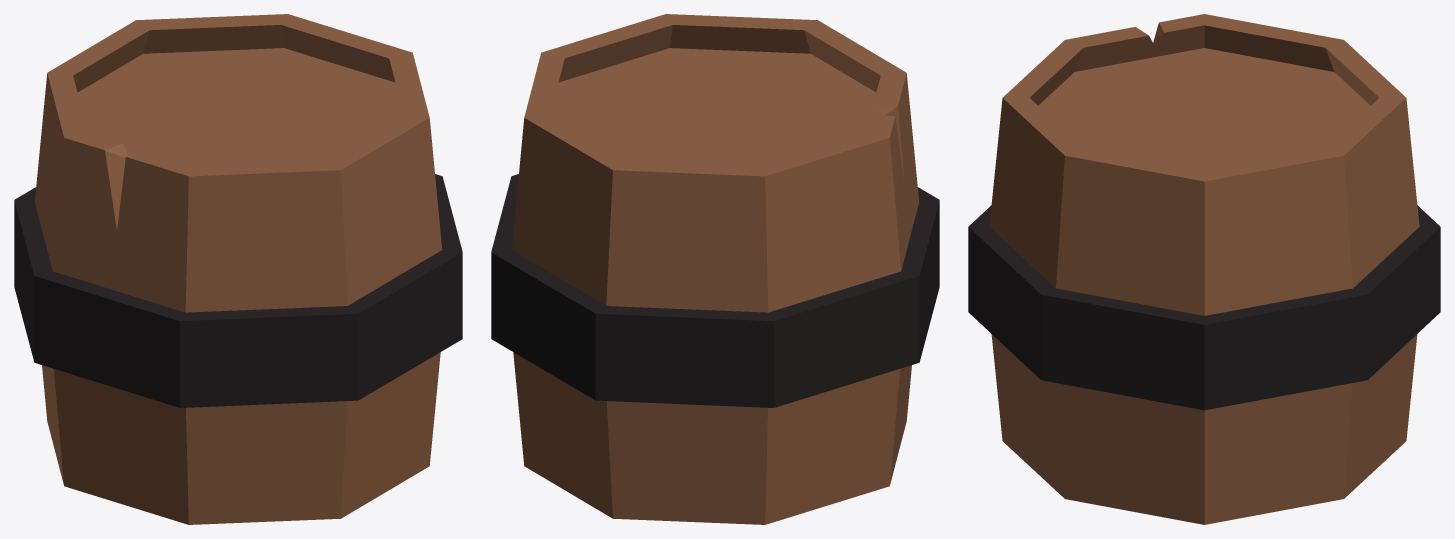
Rendered from barrel.fbx.
3 renders of one model, left to right at view 1: azimuth 30°, elevation 25°; view 2: azimuth 150°, elevation 25°; view 3: azimuth 270°, elevation 25°, orthographic.
Visible parts, largest first — view 1: barrel; view 2: barrel; view 3: barrel.
Boxes of the visible parts, x1,y1,x2,y2 form: barrel: (14,14,462,524); barrel: (491,14,939,524); barrel: (968,14,1440,524).
Bounding box in the file's own units: 62.52 × 51.01 × 63.57.
1 material, 1 textured.
